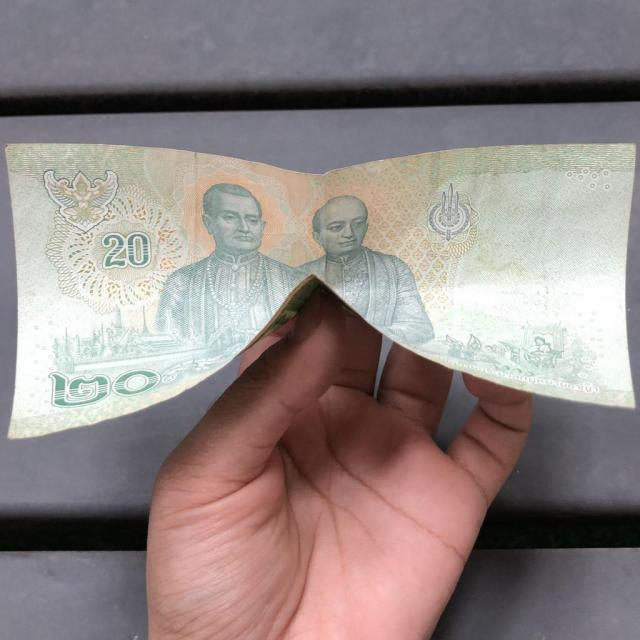THAI20: (5, 142, 636, 438)
